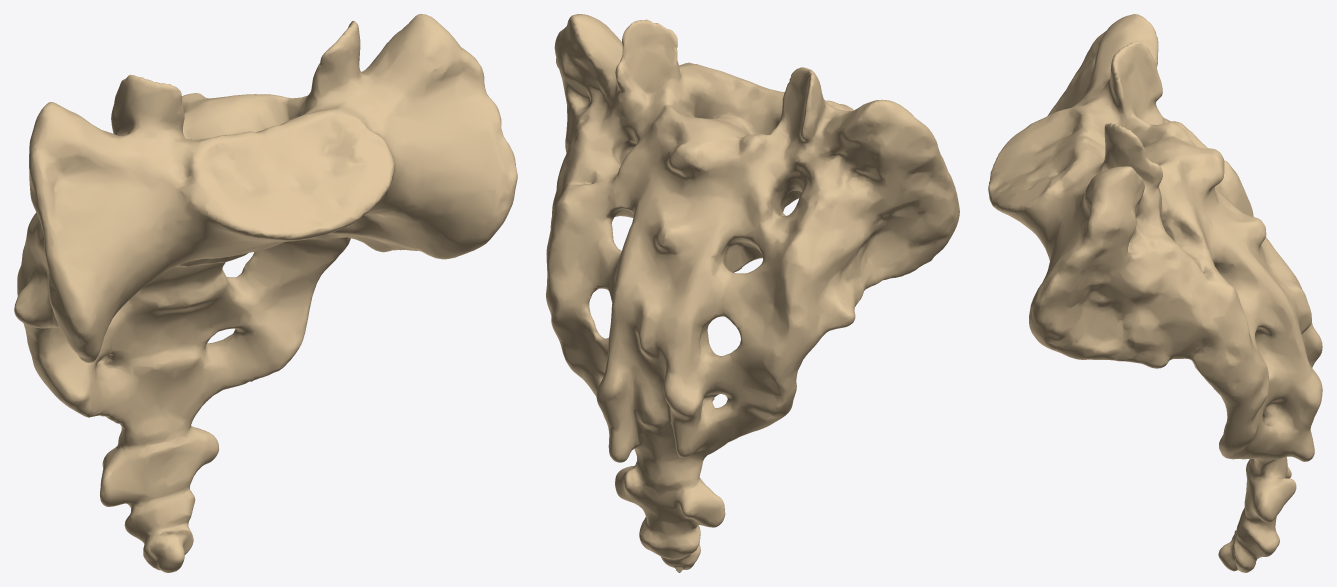
The model's file is explorar-sacrum.glb.
3 views of the same model, side by side, from view 1: azimuth 30°, elevation 25°; view 2: azimuth 150°, elevation 25°; view 3: azimuth 270°, elevation 25° (orthographic). The views are drawn at different scales.
Visible parts, largest first — view 1: sacrum__sacro, sacrum__alas, sacrum__foramenes_sacros, sacrum__promontorio, sacrum__coccix; view 2: sacrum__sacro, sacrum__alas, sacrum__foramenes_sacros, sacrum__coccix; view 3: sacrum__sacro, sacrum__alas, sacrum__foramenes_sacros, sacrum__promontorio, sacrum__coccix.
Part boxes in pixels (x1,y1,x2,y2): sacrum__sacro: (14, 21, 514, 442); sacrum__alas: (29, 14, 517, 298); sacrum__foramenes_sacros: (95, 84, 378, 403); sacrum__promontorio: (180, 129, 393, 256); sacrum__coccix: (100, 423, 218, 572); sacrum__sacro: (546, 19, 959, 480); sacrum__alas: (554, 14, 957, 247); sacrum__foramenes_sacros: (580, 62, 843, 448); sacrum__coccix: (615, 461, 725, 572); sacrum__sacro: (1024, 41, 1322, 475); sacrum__alas: (1031, 14, 1228, 316); sacrum__foramenes_sacros: (1049, 85, 1322, 441); sacrum__promontorio: (988, 113, 1058, 237); sacrum__coccix: (1218, 459, 1296, 572).
Size of the model in its own units: 0.1223 by 0.1453 by 0.0889.
